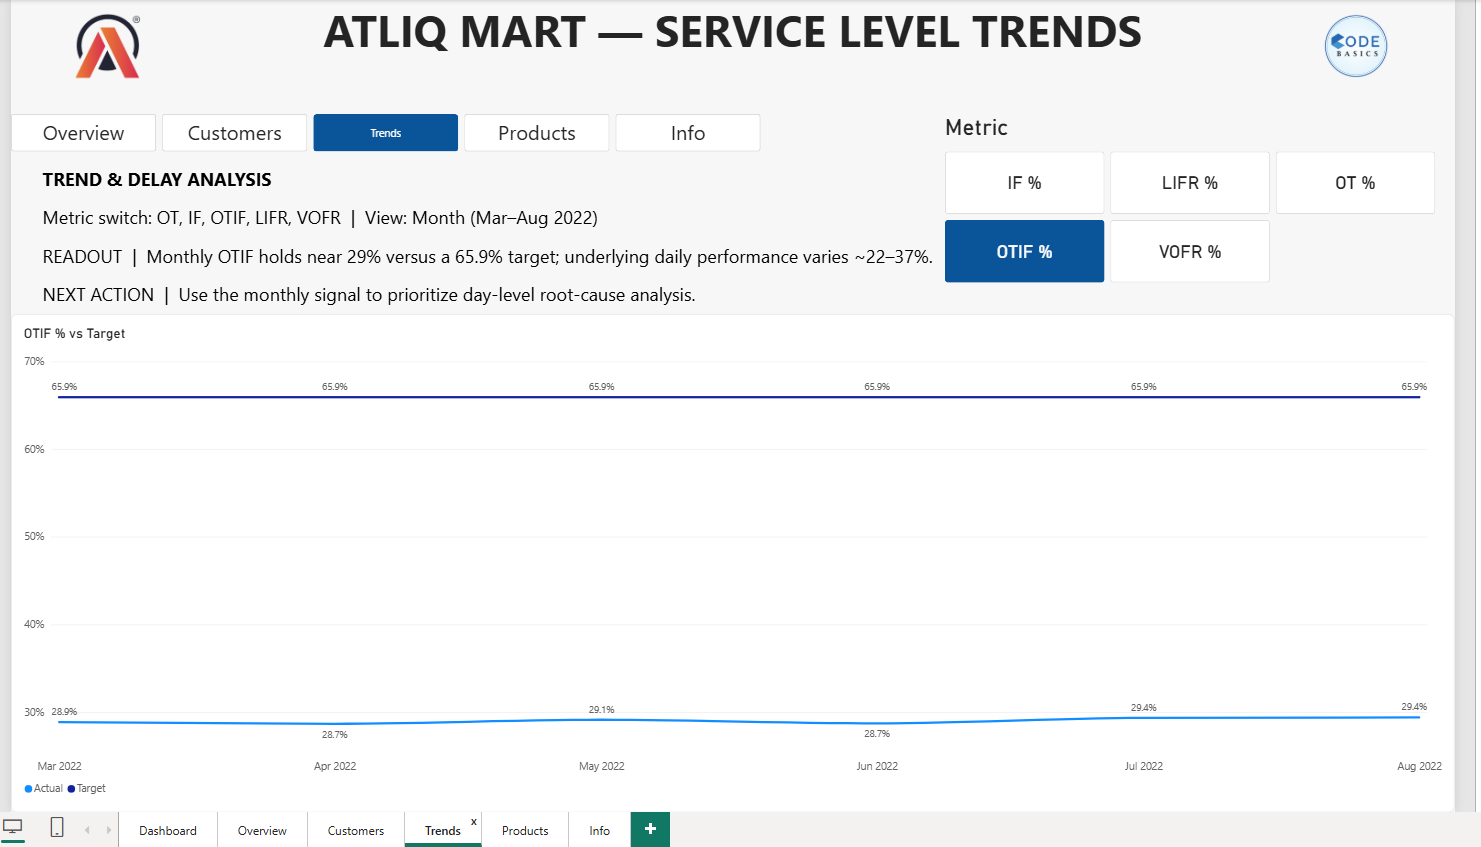

The page's visual inventory and layout, read from the dashboard file:
{"tool":"powerbi","page":{"name":"Trends","canvas":[1920,1080],"ordinal":3},"visuals":[{"type":"image","box":[0,16.9,259.7,87],"z":0},{"type":"image","box":[1658.4,16.9,261,88.3],"z":1000},{"type":"textbox","box":[0,0,1920,122.9],"z":2000},{"type":"pageNavigator","box":[0,151.5,1000,50],"z":3000},{"type":"advancedSlicerVisual","fields":{"Values":["Metrics.Metric"]},"box":[1242.7,151.5,654.9,225.3],"z":4000},{"type":"textbox","box":[0,202.2,1231.6,215.5],"z":5000},{"type":"lineChart","fields":{"Category":["dim_date.mmm_yy.Variation.Date Hierarchy.Year","dim_date.week_no","dim_date.date"],"Y":["Measures table.Selected Metric Value","Measures table.Selected Metric Target"]},"box":[0,417.7,1920,662.8],"z":6000}]}

Visuals, with their boxes on the page's 1920x1080 design canvas (x1, y1, x2, y2). These are canvas units, not pixel positions in the 1481x847 screenshot, which may show the page scaled, cropped or inside an application window:
image: [0, 17, 260, 104]
image: [1658, 17, 1919, 105]
textbox: [0, 0, 1920, 123]
pageNavigator: [0, 152, 1000, 202]
advancedSlicerVisual - Metrics.Metric: [1243, 152, 1898, 377]
textbox: [0, 202, 1232, 418]
lineChart - dim_date.mmm_yy.Variation.Date Hierarchy.Year x dim_date.week_no: [0, 418, 1920, 1080]
